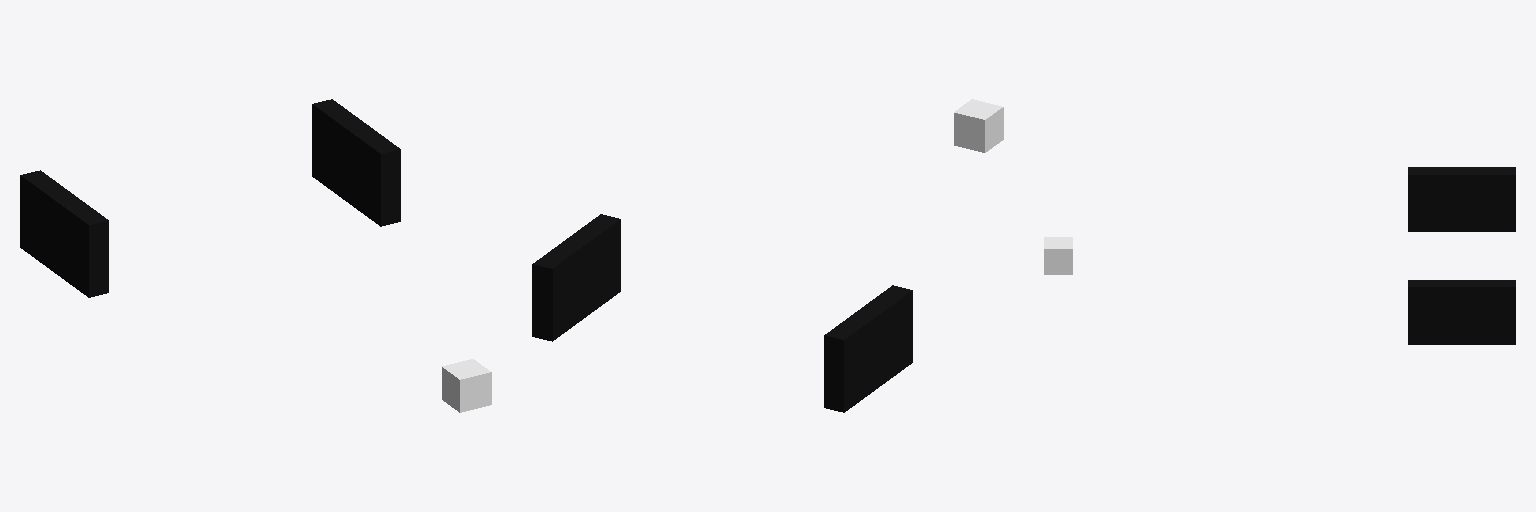
URDF robot description (robot):
<?xml version="0.0" ?>
<robot name="">
	<link name="world">
		<inertial>
			<origin rpy="0.00000 -0.00000 0.00000" xyz="0.00000 0.00000 0.00000"/>
			<mass value="0.00000"/>
			<inertia ixx="0.00000" ixy="0" ixz="0" iyy="0.00000" iyz="0" izz="0.00000"/>
		</inertial>
	</link>
	<link name="base_link">
		<inertial>
			<origin rpy="0.00000 -0.00000 0.00000" xyz="0.00000 0.00000 0.00000"/>
			<mass value="4.00000"/>
			<inertia ixx="0.01063" ixy="0" ixz="0" iyy="0.00875" iyz="0" izz="0.01809"/>
		</inertial>
		<visual>
			<origin rpy="0.00000 -0.00000 0.00000" xyz="0.00000 0.00000 0.00000"/>
			<geometry>
				<mesh filename="rlbotics\envs\models\robots/universal_robots/ur10/meshes/visual/base.dae" scale="1.00000 1.00000 1.00000"/>
			</geometry>
			<material name="mat_0_0">
				<color rgba="0.70000 0.70000 0.70000 1.00000" />
			</material>
		</visual>
		<collision>
			<origin rpy="0.00000 -0.00000 0.00000" xyz="0.00000 0.00000 0.00000"/>
			<geometry>
				<mesh filename="rlbotics\envs\models\robots/universal_robots/ur10/meshes/collision/base.stl" scale="1.00000 1.00000 1.00000"/>
			</geometry>
		</collision>
	</link>
	<link name="shoulder_link">
		<inertial>
			<origin rpy="0.00000 -0.00000 0.00000" xyz="0.00000 0.00000 0.00000"/>
			<mass value="7.77800"/>
			<inertia ixx="0.03989" ixy="0" ixz="0" iyy="0.03770" iyz="0" izz="0.03412"/>
		</inertial>
		<visual>
			<origin rpy="0.00000 -0.00000 0.00000" xyz="0.00000 0.00000 0.00000"/>
			<geometry>
				<mesh filename="rlbotics\envs\models\robots/universal_robots/ur10/meshes/visual/shoulder.dae" scale="1.00000 1.00000 1.00000"/>
			</geometry>
			<material name="mat_1_0">
				<color rgba="0.70000 0.70000 0.70000 1.00000" />
			</material>
		</visual>
		<collision>
			<origin rpy="0.00000 -0.00000 0.00000" xyz="0.00000 0.00000 0.00000"/>
			<geometry>
				<mesh filename="rlbotics\envs\models\robots/universal_robots/ur10/meshes/collision/shoulder.stl" scale="1.00000 1.00000 1.00000"/>
			</geometry>
		</collision>
	</link>
	<link name="upper_arm_link">
		<inertial>
			<origin rpy="0.00000 -0.00000 0.00000" xyz="0.00000 -0.04500 0.30600"/>
			<mass value="12.93000"/>
			<inertia ixx="0.65013" ixy="0" ixz="0" iyy="0.64040" iyz="0" izz="0.06264"/>
		</inertial>
		<visual>
			<origin rpy="0.00000 -0.00000 0.00000" xyz="0.00000 0.00000 0.00000"/>
			<geometry>
				<mesh filename="rlbotics\envs\models\robots/universal_robots/ur10/meshes/visual/upperarm.dae" scale="1.00000 1.00000 1.00000"/>
			</geometry>
			<material name="mat_2_0">
				<color rgba="0.70000 0.70000 0.70000 1.00000" />
			</material>
		</visual>
		<collision>
			<origin rpy="0.00000 -0.00000 0.00000" xyz="0.00000 0.00000 0.00000"/>
			<geometry>
				<mesh filename="rlbotics\envs\models\robots/universal_robots/ur10/meshes/collision/upperarm.stl" scale="1.00000 1.00000 1.00000"/>
			</geometry>
		</collision>
	</link>
	<link name="forearm_link">
		<inertial>
			<origin rpy="0.00000 -0.00000 0.00000" xyz="0.00000 0.00000 0.28615"/>
			<mass value="3.87000"/>
			<inertia ixx="0.15749" ixy="0" ixz="0" iyy="0.15609" iyz="0" izz="0.01167"/>
		</inertial>
		<visual>
			<origin rpy="0.00000 -0.00000 0.00000" xyz="0.00000 0.00000 0.00000"/>
			<geometry>
				<mesh filename="rlbotics\envs\models\robots/universal_robots/ur10/meshes/visual/forearm.dae" scale="1.00000 1.00000 1.00000"/>
			</geometry>
			<material name="mat_3_0">
				<color rgba="0.70000 0.70000 0.70000 1.00000" />
			</material>
		</visual>
		<collision>
			<origin rpy="0.00000 -0.00000 0.00000" xyz="0.00000 0.00000 0.00000"/>
			<geometry>
				<mesh filename="rlbotics\envs\models\robots/universal_robots/ur10/meshes/collision/forearm.stl" scale="1.00000 1.00000 1.00000"/>
			</geometry>
		</collision>
	</link>
	<link name="wrist_1_link">
		<inertial>
			<origin rpy="0.00000 -0.00000 0.00000" xyz="0.00000 0.11490 0.00000"/>
			<mass value="1.96000"/>
			<inertia ixx="0.00438" ixy="0" ixz="0" iyy="0.00408" iyz="0" izz="0.00338"/>
		</inertial>
		<visual>
			<origin rpy="0.00000 -0.00000 0.00000" xyz="0.00000 0.00000 0.00000"/>
			<geometry>
				<mesh filename="rlbotics\envs\models\robots/universal_robots/ur10/meshes/visual/wrist1.dae" scale="1.00000 1.00000 1.00000"/>
			</geometry>
			<material name="mat_4_0">
				<color rgba="0.70000 0.70000 0.70000 1.00000" />
			</material>
		</visual>
		<collision>
			<origin rpy="0.00000 -0.00000 0.00000" xyz="0.00000 0.00000 0.00000"/>
			<geometry>
				<mesh filename="rlbotics\envs\models\robots/universal_robots/ur10/meshes/collision/wrist1.stl" scale="1.00000 1.00000 1.00000"/>
			</geometry>
		</collision>
	</link>
	<link name="wrist_2_link">
		<inertial>
			<origin rpy="0.00000 -0.00000 0.00000" xyz="0.00000 0.00000 0.11570"/>
			<mass value="1.96000"/>
			<inertia ixx="0.00438" ixy="0" ixz="0" iyy="0.00338" iyz="0" izz="0.00409"/>
		</inertial>
		<visual>
			<origin rpy="0.00000 -0.00000 0.00000" xyz="0.00000 0.00000 0.00000"/>
			<geometry>
				<mesh filename="rlbotics\envs\models\robots/universal_robots/ur10/meshes/visual/wrist2.dae" scale="1.00000 1.00000 1.00000"/>
			</geometry>
			<material name="mat_5_0">
				<color rgba="0.70000 0.70000 0.70000 1.00000" />
			</material>
		</visual>
		<collision>
			<origin rpy="0.00000 -0.00000 0.00000" xyz="0.00000 0.00000 0.00000"/>
			<geometry>
				<mesh filename="rlbotics\envs\models\robots/universal_robots/ur10/meshes/collision/wrist2.stl" scale="1.00000 1.00000 1.00000"/>
			</geometry>
		</collision>
	</link>
	<link name="wrist_3_link">
		<inertial>
			<origin rpy="1.57080 -0.00000 0.00000" xyz="0.00000 0.07695 0.00000"/>
			<mass value="0.20200"/>
			<inertia ixx="0.00018" ixy="0" ixz="0" iyy="0.00018" iyz="0" izz="0.00031"/>
		</inertial>
		<visual>
			<origin rpy="0.00000 -0.00000 0.00000" xyz="0.00000 0.00000 0.00000"/>
			<geometry>
				<mesh filename="rlbotics\envs\models\robots/universal_robots/ur10/meshes/visual/wrist3.dae" scale="1.00000 1.00000 1.00000"/>
			</geometry>
			<material name="mat_6_0">
				<color rgba="0.70000 0.70000 0.70000 1.00000" />
			</material>
		</visual>
		<collision>
			<origin rpy="0.00000 -0.00000 0.00000" xyz="0.00000 0.00000 0.00000"/>
			<geometry>
				<mesh filename="rlbotics\envs\models\robots/universal_robots/ur10/meshes/collision/wrist3.stl" scale="1.00000 1.00000 1.00000"/>
			</geometry>
		</collision>
	</link>
	<link name="ee_link">
		<inertial>
			<origin rpy="0.00000 -0.00000 0.00000" xyz="0.00000 0.00000 0.00000"/>
			<mass value="1.00000"/>
			<inertia ixx="0.00002" ixy="0" ixz="0" iyy="0.00002" iyz="0" izz="0.00002"/>
		</inertial>
		<visual>
			<origin rpy="0.00000 -0.00000 0.00000" xyz="-0.01000 0.00000 0.00000"/>
			<geometry>
				<box size="0.01000 0.01000 0.01000"/>
			</geometry>
			<material name="mat_7_0">
				<color rgba="1.00000 1.00000 1.00000 1.00000" />
			</material>
		</visual>
		<collision>
			<origin rpy="0.00000 -0.00000 0.00000" xyz="-0.01000 0.00000 0.00000"/>
			<geometry>
				<box size="0.01000 0.01000 0.01000"/>
			</geometry>
		</collision>
	</link>
	<link name="tool0">
		<inertial>
			<origin rpy="0.00000 -0.00000 0.00000" xyz="0.00000 0.00000 0.00000"/>
			<mass value="1.00000"/>
			<inertia ixx="0.00000" ixy="0" ixz="0" iyy="0.00000" iyz="0" izz="0.00000"/>
		</inertial>
	</link>
	<link name="base">
		<inertial>
			<origin rpy="0.00000 -0.00000 0.00000" xyz="0.00000 0.00000 0.00000"/>
			<mass value="1.00000"/>
			<inertia ixx="0.00000" ixy="0" ixz="0" iyy="0.00000" iyz="0" izz="0.00000"/>
		</inertial>
	</link>
	<link name="robotiq_arg2f_base_link">
		<inertial>
			<origin rpy="0.00000 -0.00000 0.00000" xyz="0.00000 -0.00000 0.03145"/>
			<mass value="0.22652"/>
			<inertia ixx="0.00034" ixy="0" ixz="0" iyy="0.00031" iyz="0" izz="0.00028"/>
		</inertial>
		<visual>
			<origin rpy="0.00000 -0.00000 0.00000" xyz="0.00000 0.00000 0.00000"/>
			<geometry>
				<mesh filename="rlbotics\envs\models\grippers/robotiq/robotiq_2f_85/meshes/visual/robotiq_arg2f_85_base_link.dae" scale="0.00100 0.00100 0.00100"/>
			</geometry>
			<material name="mat_-1_0">
				<color rgba="0.10000 0.10000 0.10000 1.00000" />
			</material>
		</visual>
		<collision>
			<origin rpy="0.00000 -0.00000 0.00000" xyz="0.00000 0.00000 0.00000"/>
			<geometry>
				<mesh filename="rlbotics\envs\models\grippers/robotiq/robotiq_2f_85/meshes/collision/robotiq_arg2f_base_link.stl" scale="1.00000 1.00000 1.00000"/>
			</geometry>
		</collision>
	</link>
	<link name="left_outer_knuckle">
		<inertial>
			<origin rpy="0.00000 -0.00000 0.00000" xyz="0.00000 0.00000 0.00000"/>
			<mass value="1.00000"/>
			<inertia ixx="0.00030" ixy="0" ixz="0" iyy="0.00014" iyz="0" izz="0.00030"/>
		</inertial>
		<visual>
			<origin rpy="0.00000 -0.00000 0.00000" xyz="0.00000 0.00000 0.00000"/>
			<geometry>
				<mesh filename="rlbotics\envs\models\grippers/robotiq/robotiq_2f_85/meshes/visual/robotiq_arg2f_85_outer_knuckle.dae" scale="0.00100 0.00100 0.00100"/>
			</geometry>
			<material name="mat_0_0">
				<color rgba="0.10000 0.10000 0.10000 1.00000" />
			</material>
		</visual>
		<collision>
			<origin rpy="0.00000 -0.00000 0.00000" xyz="0.00000 0.00000 0.00000"/>
			<geometry>
				<mesh filename="rlbotics\envs\models\grippers/robotiq/robotiq_2f_85/meshes/collision/robotiq_arg2f_85_outer_knuckle.dae" scale="0.00100 0.00100 0.00100"/>
			</geometry>
		</collision>
	</link>
	<link name="left_outer_finger">
		<inertial>
			<origin rpy="0.00000 -0.00000 0.00000" xyz="0.00000 0.00000 0.00000"/>
			<mass value="1.00000"/>
			<inertia ixx="0.00040" ixy="0" ixz="0" iyy="0.00044" iyz="0" izz="0.00014"/>
		</inertial>
		<visual>
			<origin rpy="0.00000 -0.00000 0.00000" xyz="0.00000 0.00000 0.00000"/>
			<geometry>
				<mesh filename="rlbotics\envs\models\grippers/robotiq/robotiq_2f_85/meshes/visual/robotiq_arg2f_85_outer_finger.dae" scale="0.00100 0.00100 0.00100"/>
			</geometry>
			<material name="mat_1_0">
				<color rgba="0.10000 0.10000 0.10000 1.00000" />
			</material>
		</visual>
		<collision>
			<origin rpy="0.00000 -0.00000 0.00000" xyz="0.00000 0.00000 0.00000"/>
			<geometry>
				<mesh filename="rlbotics\envs\models\grippers/robotiq/robotiq_2f_85/meshes/collision/robotiq_arg2f_85_outer_finger.dae" scale="0.00100 0.00100 0.00100"/>
			</geometry>
		</collision>
	</link>
	<link name="left_inner_finger">
		<inertial>
			<origin rpy="0.00000 -0.00000 0.00000" xyz="0.00000 0.00000 0.00000"/>
			<mass value="1.00000"/>
			<inertia ixx="0.00037" ixy="0" ixz="0" iyy="0.00030" iyz="0" izz="0.00014"/>
		</inertial>
		<visual>
			<origin rpy="0.00000 -0.00000 0.00000" xyz="0.00000 0.00000 0.00000"/>
			<geometry>
				<mesh filename="rlbotics\envs\models\grippers/robotiq/robotiq_2f_85/meshes/visual/robotiq_arg2f_85_inner_finger.dae" scale="0.00100 0.00100 0.00100"/>
			</geometry>
			<material name="mat_2_0">
				<color rgba="0.10000 0.10000 0.10000 1.00000" />
			</material>
		</visual>
		<collision>
			<origin rpy="0.00000 -0.00000 0.00000" xyz="0.00000 0.00000 0.00000"/>
			<geometry>
				<mesh filename="rlbotics\envs\models\grippers/robotiq/robotiq_2f_85/meshes/collision/robotiq_arg2f_85_inner_finger.dae" scale="0.00100 0.00100 0.00100"/>
			</geometry>
		</collision>
	</link>
	<link name="left_inner_finger_pad">
		<inertial>
			<origin rpy="0.00000 -0.00000 0.00000" xyz="0.00000 0.00000 0.00000"/>
			<mass value="1.00000"/>
			<inertia ixx="0.00012" ixy="0" ixz="0" iyy="0.00016" iyz="0" izz="0.00004"/>
		</inertial>
		<visual>
			<origin rpy="0.00000 -0.00000 0.00000" xyz="0.00000 0.00000 0.00000"/>
			<geometry>
				<box size="0.02200 0.00635 0.03750"/>
			</geometry>
			<material name="mat_3_0">
				<color rgba="0.10000 0.10000 0.10000 1.00000" />
			</material>
		</visual>
		<collision>
			<origin rpy="0.00000 -0.00000 0.00000" xyz="0.00000 0.00000 0.00000"/>
			<geometry>
				<box size="0.02200 0.00635 0.03750"/>
			</geometry>
		</collision>
	</link>
	<link name="left_inner_knuckle">
		<inertial>
			<origin rpy="0.00000 -0.00000 0.00000" xyz="0.00000 0.00000 0.00000"/>
			<mass value="1.00000"/>
			<inertia ixx="0.00057" ixy="0" ixz="0" iyy="0.00048" iyz="0" izz="0.00042"/>
		</inertial>
		<visual>
			<origin rpy="0.00000 -0.00000 0.00000" xyz="0.00000 0.00000 0.00000"/>
			<geometry>
				<mesh filename="rlbotics\envs\models\grippers/robotiq/robotiq_2f_85/meshes/visual/robotiq_arg2f_85_inner_knuckle.dae" scale="0.00100 0.00100 0.00100"/>
			</geometry>
			<material name="mat_4_0">
				<color rgba="0.10000 0.10000 0.10000 1.00000" />
			</material>
		</visual>
		<collision>
			<origin rpy="0.00000 -0.00000 0.00000" xyz="0.00000 0.00000 0.00000"/>
			<geometry>
				<mesh filename="rlbotics\envs\models\grippers/robotiq/robotiq_2f_85/meshes/collision/robotiq_arg2f_85_inner_knuckle.dae" scale="0.00100 0.00100 0.00100"/>
			</geometry>
		</collision>
	</link>
	<link name="right_outer_knuckle">
		<inertial>
			<origin rpy="0.00000 -0.00000 0.00000" xyz="0.00000 0.00000 0.00000"/>
			<mass value="1.00000"/>
			<inertia ixx="0.00030" ixy="0" ixz="0" iyy="0.00014" iyz="0" izz="0.00030"/>
		</inertial>
		<visual>
			<origin rpy="0.00000 -0.00000 0.00000" xyz="0.00000 0.00000 0.00000"/>
			<geometry>
				<mesh filename="rlbotics\envs\models\grippers/robotiq/robotiq_2f_85/meshes/visual/robotiq_arg2f_85_outer_knuckle.dae" scale="0.00100 0.00100 0.00100"/>
			</geometry>
			<material name="mat_5_0">
				<color rgba="0.10000 0.10000 0.10000 1.00000" />
			</material>
		</visual>
		<collision>
			<origin rpy="0.00000 -0.00000 0.00000" xyz="0.00000 0.00000 0.00000"/>
			<geometry>
				<mesh filename="rlbotics\envs\models\grippers/robotiq/robotiq_2f_85/meshes/collision/robotiq_arg2f_85_outer_knuckle.dae" scale="0.00100 0.00100 0.00100"/>
			</geometry>
		</collision>
	</link>
	<link name="right_outer_finger">
		<inertial>
			<origin rpy="0.00000 -0.00000 0.00000" xyz="0.00000 0.00000 0.00000"/>
			<mass value="1.00000"/>
			<inertia ixx="0.00040" ixy="0" ixz="0" iyy="0.00044" iyz="0" izz="0.00014"/>
		</inertial>
		<visual>
			<origin rpy="0.00000 -0.00000 0.00000" xyz="0.00000 0.00000 0.00000"/>
			<geometry>
				<mesh filename="rlbotics\envs\models\grippers/robotiq/robotiq_2f_85/meshes/visual/robotiq_arg2f_85_outer_finger.dae" scale="0.00100 0.00100 0.00100"/>
			</geometry>
			<material name="mat_6_0">
				<color rgba="0.10000 0.10000 0.10000 1.00000" />
			</material>
		</visual>
		<collision>
			<origin rpy="0.00000 -0.00000 0.00000" xyz="0.00000 0.00000 0.00000"/>
			<geometry>
				<mesh filename="rlbotics\envs\models\grippers/robotiq/robotiq_2f_85/meshes/collision/robotiq_arg2f_85_outer_finger.dae" scale="0.00100 0.00100 0.00100"/>
			</geometry>
		</collision>
	</link>
	<link name="right_inner_finger">
		<inertial>
			<origin rpy="0.00000 -0.00000 0.00000" xyz="0.00000 0.00000 0.00000"/>
			<mass value="1.00000"/>
			<inertia ixx="0.00037" ixy="0" ixz="0" iyy="0.00030" iyz="0" izz="0.00014"/>
		</inertial>
		<visual>
			<origin rpy="0.00000 -0.00000 0.00000" xyz="0.00000 0.00000 0.00000"/>
			<geometry>
				<mesh filename="rlbotics\envs\models\grippers/robotiq/robotiq_2f_85/meshes/visual/robotiq_arg2f_85_inner_finger.dae" scale="0.00100 0.00100 0.00100"/>
			</geometry>
			<material name="mat_7_0">
				<color rgba="0.10000 0.10000 0.10000 1.00000" />
			</material>
		</visual>
		<collision>
			<origin rpy="0.00000 -0.00000 0.00000" xyz="0.00000 0.00000 0.00000"/>
			<geometry>
				<mesh filename="rlbotics\envs\models\grippers/robotiq/robotiq_2f_85/meshes/collision/robotiq_arg2f_85_inner_finger.dae" scale="0.00100 0.00100 0.00100"/>
			</geometry>
		</collision>
	</link>
	<link name="right_inner_finger_pad">
		<inertial>
			<origin rpy="0.00000 -0.00000 0.00000" xyz="0.00000 0.00000 0.00000"/>
			<mass value="1.00000"/>
			<inertia ixx="0.00012" ixy="0" ixz="0" iyy="0.00016" iyz="0" izz="0.00004"/>
		</inertial>
		<visual>
			<origin rpy="0.00000 -0.00000 0.00000" xyz="0.00000 0.00000 0.00000"/>
			<geometry>
				<box size="0.02200 0.00635 0.03750"/>
			</geometry>
			<material name="mat_8_0">
				<color rgba="0.10000 0.10000 0.10000 1.00000" />
			</material>
		</visual>
		<collision>
			<origin rpy="0.00000 -0.00000 0.00000" xyz="0.00000 0.00000 0.00000"/>
			<geometry>
				<box size="0.02200 0.00635 0.03750"/>
			</geometry>
		</collision>
	</link>
	<link name="right_inner_knuckle">
		<inertial>
			<origin rpy="0.00000 -0.00000 0.00000" xyz="0.00000 0.00000 0.00000"/>
			<mass value="1.00000"/>
			<inertia ixx="0.00057" ixy="0" ixz="0" iyy="0.00048" iyz="0" izz="0.00042"/>
		</inertial>
		<visual>
			<origin rpy="0.00000 -0.00000 0.00000" xyz="0.00000 0.00000 0.00000"/>
			<geometry>
				<mesh filename="rlbotics\envs\models\grippers/robotiq/robotiq_2f_85/meshes/visual/robotiq_arg2f_85_inner_knuckle.dae" scale="0.00100 0.00100 0.00100"/>
			</geometry>
			<material name="mat_9_0">
				<color rgba="0.10000 0.10000 0.10000 1.00000" />
			</material>
		</visual>
		<collision>
			<origin rpy="0.00000 -0.00000 0.00000" xyz="0.00000 0.00000 0.00000"/>
			<geometry>
				<mesh filename="rlbotics\envs\models\grippers/robotiq/robotiq_2f_85/meshes/collision/robotiq_arg2f_85_inner_knuckle.dae" scale="0.00100 0.00100 0.00100"/>
			</geometry>
		</collision>
	</link>
	<joint name="world_joint" type="fixed">
		<parent link="world"/>
		<child link="base_link"/>
		<dynamics damping="1.0" friction="0.0001"/>
		<origin rpy="0.00000 -0.00000 0.00000" xyz="0.00000 0.00000 0.00000"/>
		<axis xyz="0.00000 0.00000 0.00000"/>
	</joint>
	<joint name="shoulder_pan_joint" type="continuous">
		<parent link="base_link"/>
		<child link="shoulder_link"/>
		<dynamics damping="1.0" friction="0.0001"/>
		<origin rpy="0.00000 -0.00000 0.00000" xyz="0.00000 0.00000 0.12730"/>
		<axis xyz="0.00000 0.00000 1.00000"/>
	</joint>
	<joint name="shoulder_lift_joint" type="continuous">
		<parent link="shoulder_link"/>
		<child link="upper_arm_link"/>
		<dynamics damping="1.0" friction="0.0001"/>
		<origin rpy="0.00000 1.57080 -0.00000" xyz="0.00000 0.22094 0.00000"/>
		<axis xyz="0.00000 1.00000 0.00000"/>
	</joint>
	<joint name="elbow_joint" type="continuous">
		<parent link="upper_arm_link"/>
		<child link="forearm_link"/>
		<dynamics damping="1.0" friction="0.0001"/>
		<origin rpy="0.00000 -0.00000 0.00000" xyz="0.00000 -0.17190 0.61200"/>
		<axis xyz="0.00000 1.00000 0.00000"/>
	</joint>
	<joint name="wrist_1_joint" type="continuous">
		<parent link="forearm_link"/>
		<child link="wrist_1_link"/>
		<dynamics damping="1.0" friction="0.0001"/>
		<origin rpy="0.00000 1.57080 -0.00000" xyz="0.00000 0.00000 0.57230"/>
		<axis xyz="0.00000 1.00000 0.00000"/>
	</joint>
	<joint name="wrist_2_joint" type="continuous">
		<parent link="wrist_1_link"/>
		<child link="wrist_2_link"/>
		<dynamics damping="1.0" friction="0.0001"/>
		<origin rpy="0.00000 -0.00000 0.00000" xyz="0.00000 0.11490 0.00000"/>
		<axis xyz="0.00000 0.00000 1.00000"/>
	</joint>
	<joint name="wrist_3_joint" type="continuous">
		<parent link="wrist_2_link"/>
		<child link="wrist_3_link"/>
		<dynamics damping="1.0" friction="0.0001"/>
		<origin rpy="0.00000 -0.00000 0.00000" xyz="0.00000 0.00000 0.11570"/>
		<axis xyz="0.00000 0.00000 -1.00000"/>
	</joint>
	<joint name="ee_fixed_joint" type="fixed">
		<parent link="wrist_3_link"/>
		<child link="ee_link"/>
		<dynamics damping="1.0" friction="0.0001"/>
		<origin rpy="0.00000 -0.00000 1.57080" xyz="0.00000 0.09220 0.00000"/>
		<axis xyz="0.00000 0.00000 0.00000"/>
	</joint>
	<joint name="wrist_3_link-tool0_fixed_joint" type="fixed">
		<parent link="wrist_3_link"/>
		<child link="tool0"/>
		<dynamics damping="1.0" friction="0.0001"/>
		<origin rpy="-1.57080 0.00000 0.00000" xyz="0.00000 0.09220 0.00000"/>
		<axis xyz="0.00000 0.00000 0.00000"/>
	</joint>
	<joint name="base_link-base_fixed_joint" type="fixed">
		<parent link="base_link"/>
		<child link="base"/>
		<dynamics damping="1.0" friction="0.0001"/>
		<origin rpy="0.00000 -0.00000 -3.14159" xyz="0.00000 0.00000 0.00000"/>
		<axis xyz="0.00000 0.00000 0.00000"/>
	</joint>
	<joint name="joint_dummy1" type="fixed">
		<parent link="ee_link"/>
		<child link="robotiq_arg2f_base_link"/>
		<dynamics damping="1.0" friction="0.0001"/>
		<origin rpy="0.00000 1.57080 0.00000" xyz="0.00000 0.00000 0.00000"/>
		<axis xyz="0.00000 0.00000 1.00000"/>
	</joint>
	<joint name="finger_joint" type="continuous">
		<parent link="robotiq_arg2f_base_link"/>
		<child link="left_outer_knuckle"/>
		<dynamics damping="1.0" friction="0.0001"/>
		<origin rpy="0.00000 -0.00000 3.14159" xyz="0.00000 -0.03060 0.05490"/>
		<axis xyz="1.00000 0.00000 0.00000"/>
	</joint>
	<joint name="left_outer_finger_joint" type="fixed">
		<parent link="left_outer_knuckle"/>
		<child link="left_outer_finger"/>
		<dynamics damping="1.0" friction="0.0001"/>
		<origin rpy="0.00000 -0.00000 0.00000" xyz="0.00000 0.03150 -0.00410"/>
		<axis xyz="0.00000 0.00000 0.00000"/>
	</joint>
	<joint name="left_inner_finger_joint" type="continuous">
		<parent link="left_outer_finger"/>
		<child link="left_inner_finger"/>
		<dynamics damping="1.0" friction="0.0001"/>
		<origin rpy="0.00000 -0.00000 0.00000" xyz="0.00000 0.00610 0.04710"/>
		<axis xyz="1.00000 0.00000 0.00000"/>
	</joint>
	<joint name="left_inner_finger_pad_joint" type="fixed">
		<parent link="left_inner_finger"/>
		<child link="left_inner_finger_pad"/>
		<dynamics damping="1.0" friction="0.0001"/>
		<origin rpy="0.00000 -0.00000 0.00000" xyz="0.00000 -0.02202 0.03242"/>
		<axis xyz="0.00000 0.00000 0.00000"/>
	</joint>
	<joint name="left_inner_knuckle_joint" type="continuous">
		<parent link="robotiq_arg2f_base_link"/>
		<child link="left_inner_knuckle"/>
		<dynamics damping="1.0" friction="0.0001"/>
		<origin rpy="0.00000 -0.00000 3.14159" xyz="0.00000 -0.01270 0.06142"/>
		<axis xyz="1.00000 0.00000 0.00000"/>
	</joint>
	<joint name="right_outer_knuckle_joint" type="continuous">
		<parent link="robotiq_arg2f_base_link"/>
		<child link="right_outer_knuckle"/>
		<dynamics damping="1.0" friction="0.0001"/>
		<origin rpy="0.00000 -0.00000 0.00000" xyz="0.00000 0.03060 0.05490"/>
		<axis xyz="1.00000 0.00000 0.00000"/>
	</joint>
	<joint name="right_outer_finger_joint" type="fixed">
		<parent link="right_outer_knuckle"/>
		<child link="right_outer_finger"/>
		<dynamics damping="1.0" friction="0.0001"/>
		<origin rpy="0.00000 -0.00000 0.00000" xyz="0.00000 0.03150 -0.00410"/>
		<axis xyz="0.00000 0.00000 0.00000"/>
	</joint>
	<joint name="right_inner_finger_joint" type="continuous">
		<parent link="right_outer_finger"/>
		<child link="right_inner_finger"/>
		<dynamics damping="1.0" friction="0.0001"/>
		<origin rpy="0.00000 -0.00000 0.00000" xyz="0.00000 0.00610 0.04710"/>
		<axis xyz="1.00000 0.00000 0.00000"/>
	</joint>
	<joint name="right_inner_finger_pad_joint" type="fixed">
		<parent link="right_inner_finger"/>
		<child link="right_inner_finger_pad"/>
		<dynamics damping="1.0" friction="0.0001"/>
		<origin rpy="0.00000 -0.00000 0.00000" xyz="0.00000 -0.02202 0.03242"/>
		<axis xyz="0.00000 0.00000 0.00000"/>
	</joint>
	<joint name="right_inner_knuckle_joint" type="continuous">
		<parent link="robotiq_arg2f_base_link"/>
		<child link="right_inner_knuckle"/>
		<dynamics damping="1.0" friction="0.0001"/>
		<origin rpy="0.00000 -0.00000 0.00000" xyz="0.00000 0.01270 0.06142"/>
		<axis xyz="1.00000 0.00000 0.00000"/>
	</joint>
</robot>

--- Render facts (derived) ---
Views: 3 orthographic renders of the robot side by side, from view 1: azimuth 30°, elevation 25°; view 2: azimuth 150°, elevation 25°; view 3: azimuth 270°, elevation 25°.
Robot: robot — 22 links, 21 joints (12 continuous, 9 fixed); root link world; default pose: all joints at 0.
Visible links, largest first — view 1: right_inner_finger_pad, left_inner_finger_pad, ee_link; view 2: left_inner_finger_pad, right_inner_finger_pad, ee_link; view 3: left_inner_finger_pad, right_inner_finger_pad, ee_link.
Boxes of the visible links, x1=… form: right_inner_finger_pad: x1=312, y1=99, x2=400, y2=226; left_inner_finger_pad: x1=20, y1=170, x2=108, y2=297; ee_link: x1=442, y1=359, x2=491, y2=412; left_inner_finger_pad: x1=824, y1=285, x2=912, y2=412; right_inner_finger_pad: x1=532, y1=214, x2=620, y2=341; ee_link: x1=954, y1=99, x2=1003, y2=152; left_inner_finger_pad: x1=1408, y1=167, x2=1515, y2=231; right_inner_finger_pad: x1=1408, y1=280, x2=1515, y2=344; ee_link: x1=1044, y1=237, x2=1072, y2=274.
Bounding box of the posed robot: 0.0987 × 0.1641 × 0.022 m (x, y, z).
0 mesh visuals loaded from 12 distinct referenced files (none loaded); not drawn: 16 (reference not matched to a file when rendering).